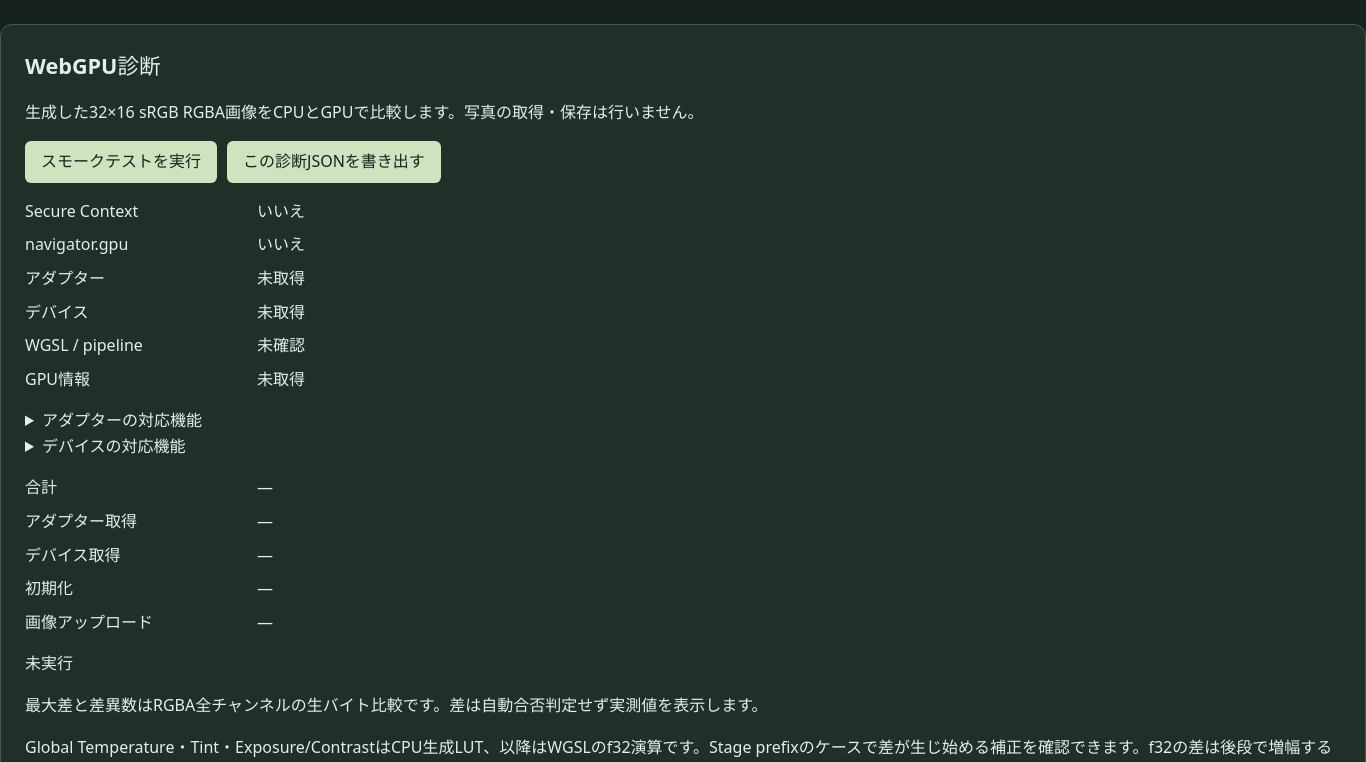
Test case: translates preflight failure codes in ja
Click the button "スモークテストを実行" at point(121, 162), box [25,141,217,183]
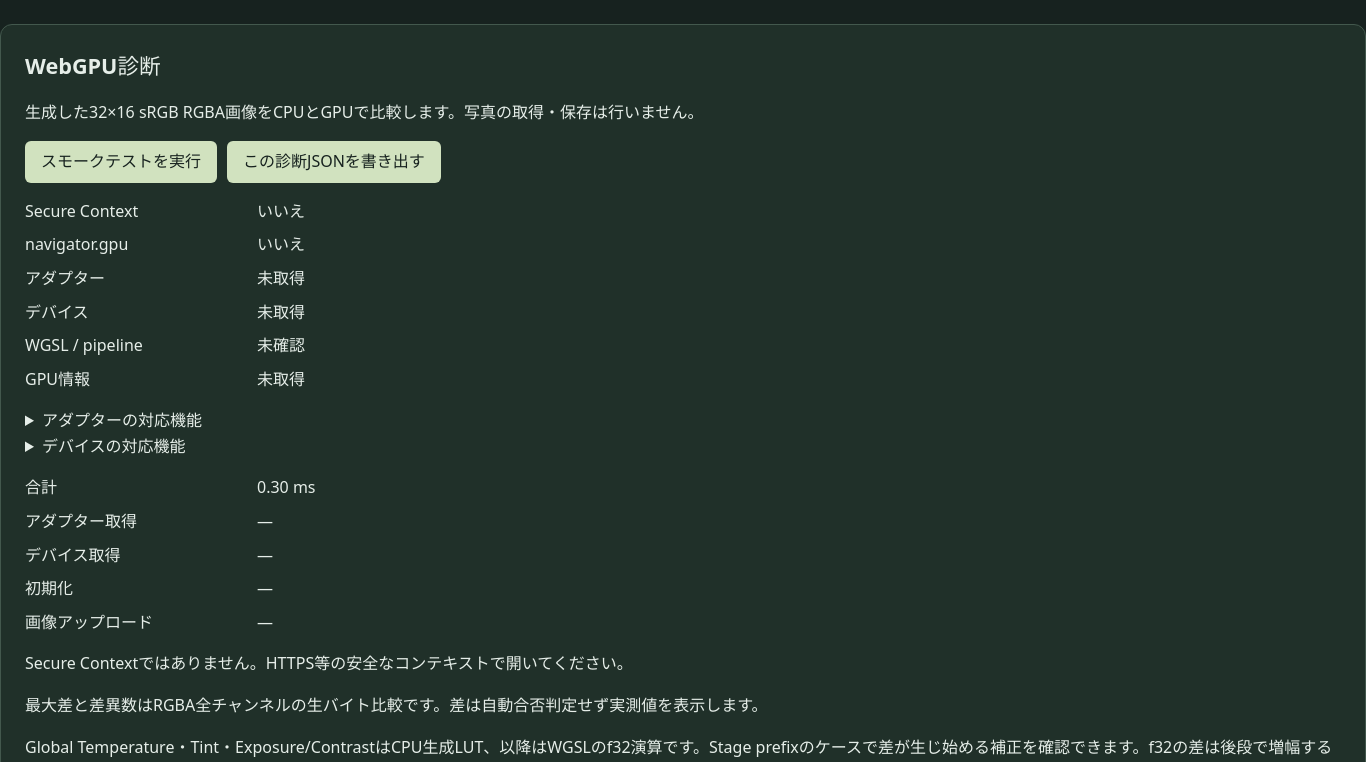
Now the text "Secure Contextではありません。HTTPS等の安全なコンテキストで開いてください。" is shown, box [25,652,633,674]
